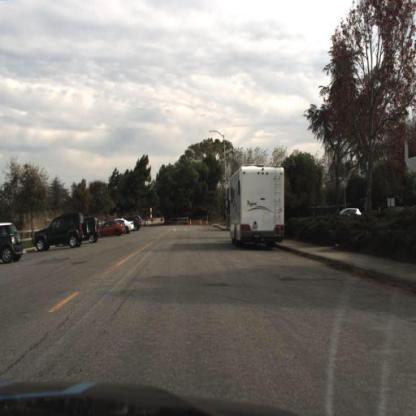car: (30, 210, 90, 254), (1, 222, 25, 269), (332, 200, 370, 225), (97, 219, 128, 240), (86, 214, 99, 245), (118, 217, 139, 235)
truck: (226, 159, 290, 253)
